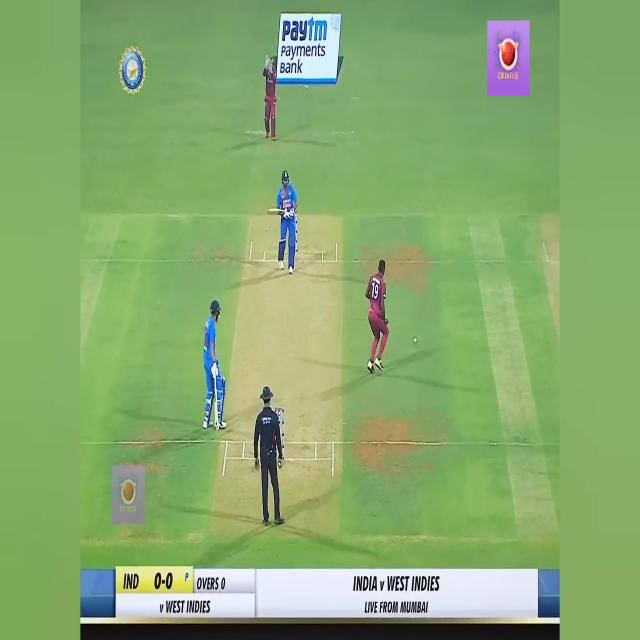fully_visible: (278, 12, 330, 50)
